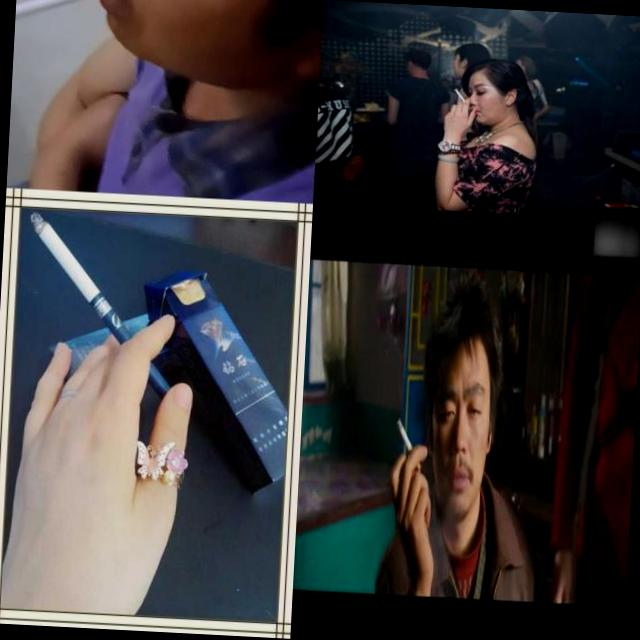smoke: (18, 206, 204, 406), (15, 0, 111, 30), (394, 418, 424, 472), (452, 87, 468, 103)
